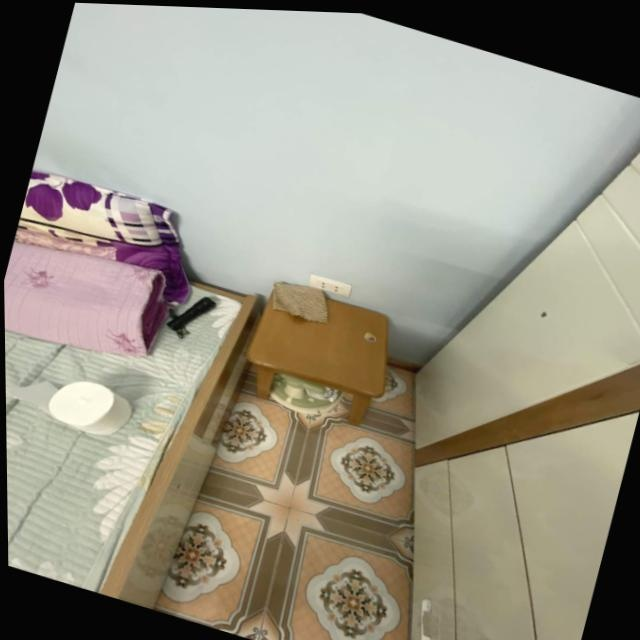outlet: (307, 272, 352, 299)
